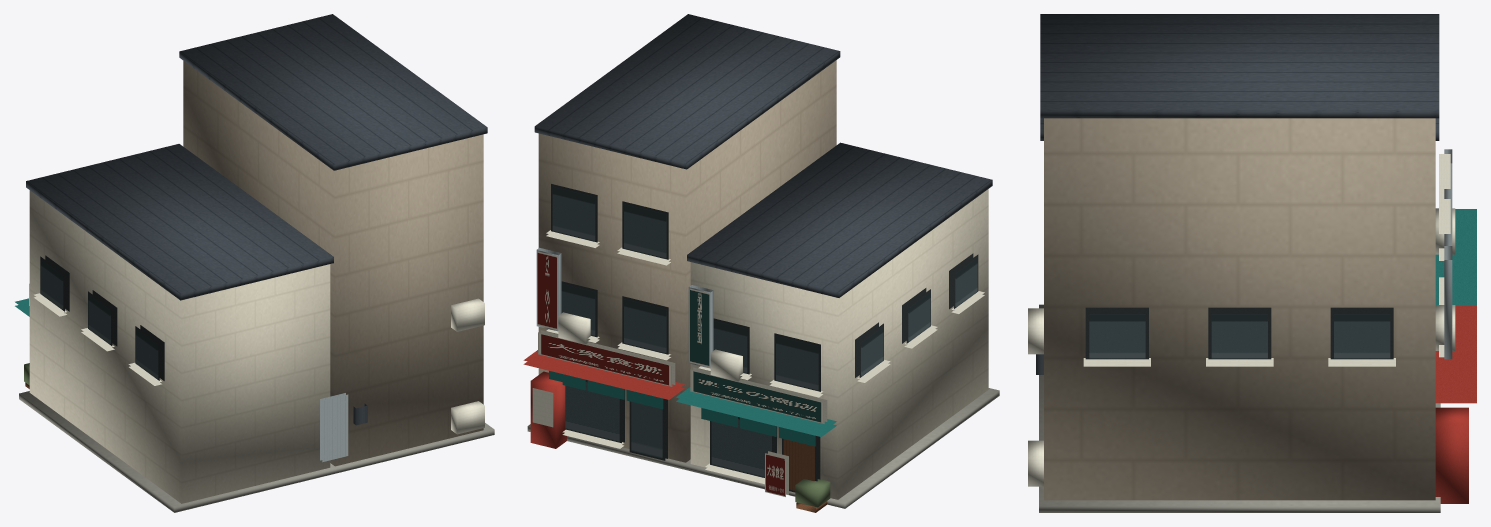
File: shop_009.lod1.obj
3 views of the same model, side by side, from view 1: azimuth 30°, elevation 25°; view 2: azimuth 150°, elevation 25°; view 3: azimuth 270°, elevation 25° (orthographic). The views are drawn at different scales.
Visible parts, largest first — view 1: shop_009; view 2: shop_009; view 3: shop_009.
Part boxes in pixels (<box>): shop_009: <box>15,14,494,512</box>; shop_009: <box>523,14,999,512</box>; shop_009: <box>1028,14,1476,512</box>.
Size of the model in its own units: 9.96 by 9.04 by 9.23.
1 material, 1 textured.
